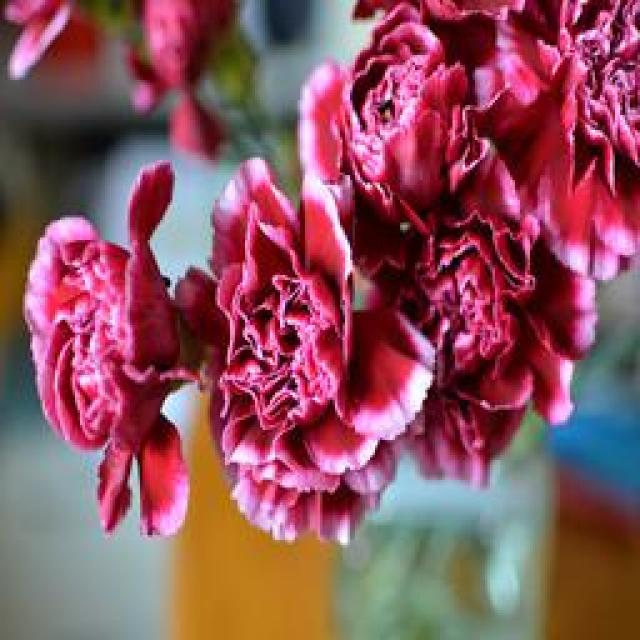carnation: (179, 160, 445, 532)
